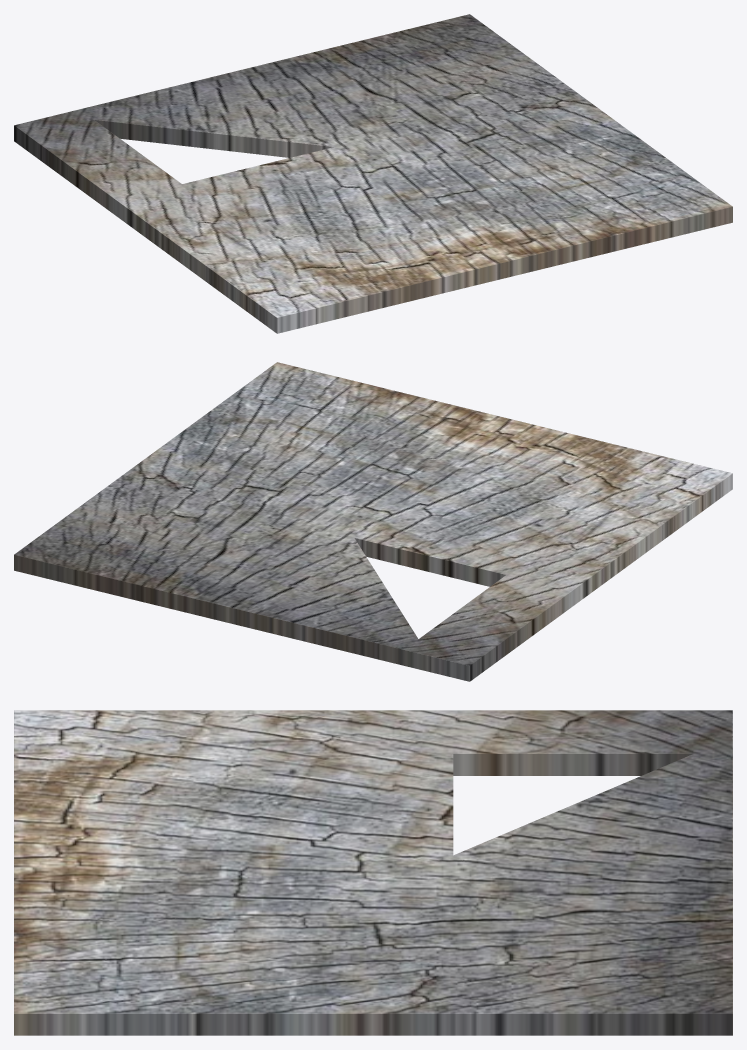
File: OuterTrianglePlane.FBX
3 views of the same model, one above another, from view 1: azimuth 30°, elevation 25°; view 2: azimuth 150°, elevation 25°; view 3: azimuth 270°, elevation 25° (orthographic). The views are drawn at different scales.
Visible parts, largest first — view 1: PlaneTriangle; view 2: PlaneTriangle; view 3: PlaneTriangle.
Boxes of the visible parts, x1,y1,x2,y2 form: PlaneTriangle: (14, 14, 732, 333); PlaneTriangle: (14, 362, 732, 681); PlaneTriangle: (14, 710, 732, 1035).
Size of the model in its own units: 300 by 10 by 300.
1 material, 1 textured.
